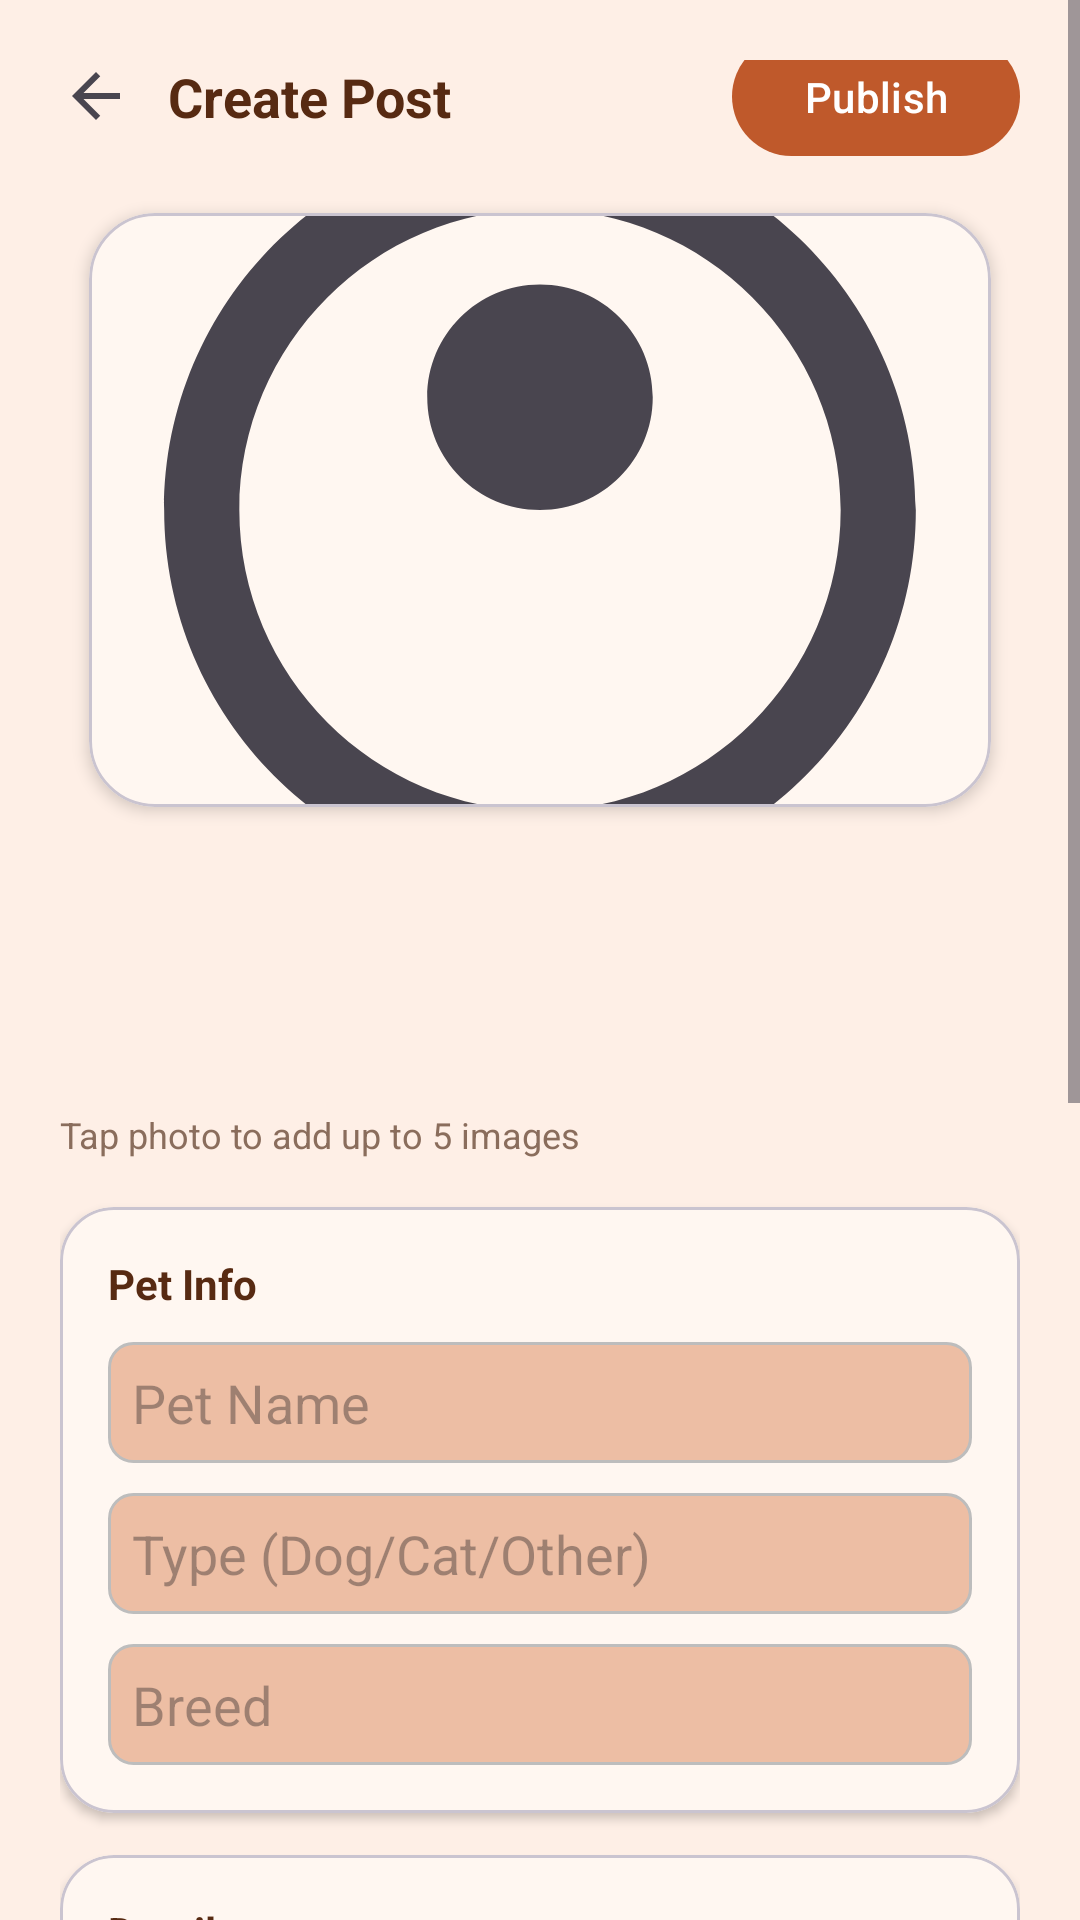

Screen size 1080px x 1920px. Icon name, then its box in pixels as bbox(x1, y1, x2, y2):
arrow back: bbox(72, 72, 120, 120)
